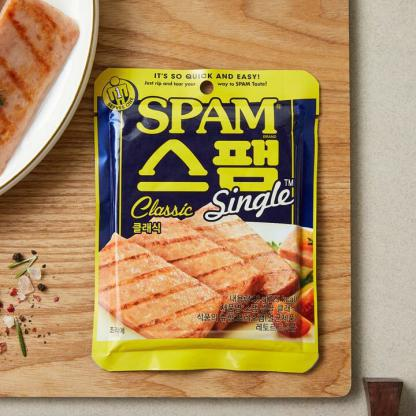spam: (98, 75, 320, 376)
